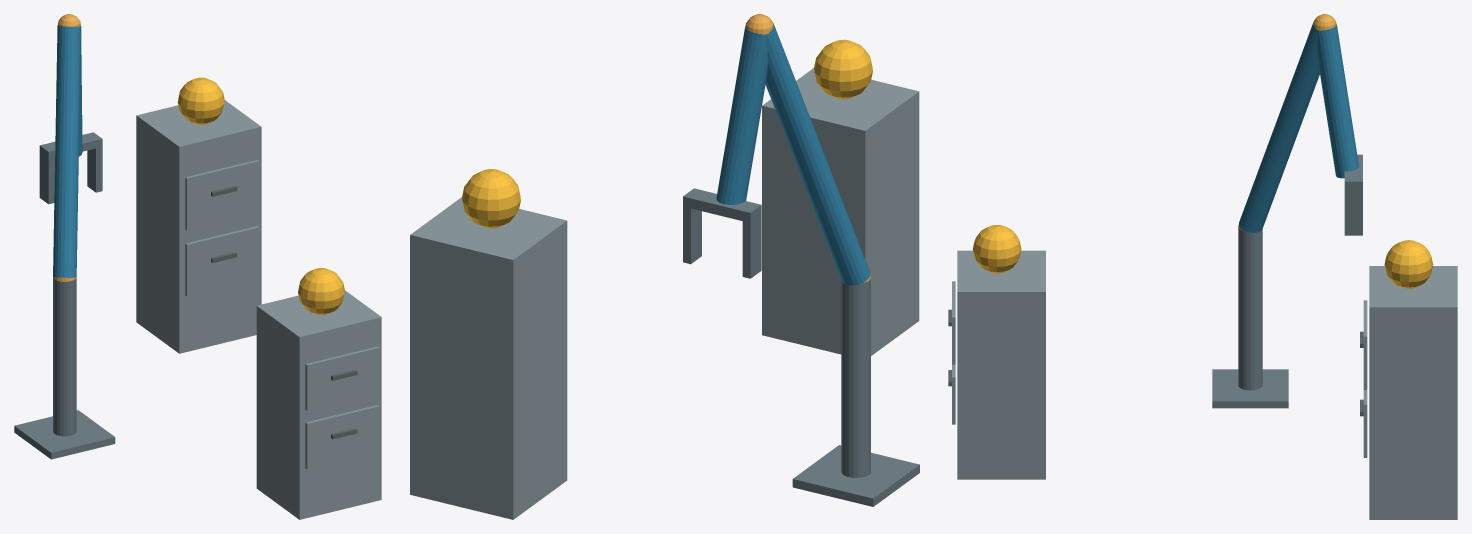
3 views of the same model, side by side, from view 1: azimuth 30°, elevation 25°; view 2: azimuth 150°, elevation 25°; view 3: azimuth 270°, elevation 25° (orthographic). The views are drawn at different scales.
Parts seen in each view (by area): view 1: cabinet_2 body, cabinet_1 body, moving link 1, cabinet_2 drawer front, cabinet_2 drawer front.001, fixed post, cabinet_1 drawer front.001, cabinet_1 drawer front, pedestal, ball ball_2, released ball_1, gripper finger -1 (+2 smaller); view 2: cabinet_2 body, cabinet_1 body, moving link 1, fixed post, moving link 2, pedestal, ball ball_2, released ball_1, gripper bridge, gripper finger -1, gripper finger 1; view 3: cabinet_2 body, cabinet_1 body, moving link 1, fixed post, moving link 2, pedestal, ball ball_2, released ball_1, gripper finger 1.
Boxes of the visible parts, <box> form: cabinet_2 body: <box>136,100,261,353</box>; cabinet_1 body: <box>256,290,381,519</box>; moving link 1: <box>53,25,81,277</box>; cabinet_2 drawer front: <box>185,226,259,296</box>; cabinet_2 drawer front.001: <box>185,160,259,230</box>; fixed post: <box>53,277,76,436</box>; cabinet_1 drawer front.001: <box>305,346,379,410</box>; cabinet_1 drawer front: <box>305,405,379,469</box>; pedestal: <box>14,410,115,459</box>; ball ball_2: <box>177,77,224,124</box>; released ball_1: <box>298,268,344,315</box>; gripper finger -1: <box>39,154,54,204</box>; cabinet_2 body: <box>410,197,567,519</box>; cabinet_1 body: <box>762,68,919,355</box>; moving link 1: <box>765,23,870,285</box>; fixed post: <box>841,279,870,477</box>; moving link 2: <box>716,26,767,204</box>; pedestal: <box>792,445,919,506</box>; ball ball_2: <box>462,169,520,228</box>; released ball_1: <box>814,39,872,99</box>; gripper bridge: <box>683,188,761,222</box>; gripper finger -1: <box>742,215,761,278</box>; gripper finger 1: <box>683,206,701,264</box>; cabinet_2 body: <box>1369,266,1457,519</box>; cabinet_1 body: <box>957,250,1045,479</box>; moving link 1: <box>1239,22,1319,232</box>; fixed post: <box>1238,227,1262,390</box>; moving link 2: <box>1317,24,1358,178</box>; pedestal: <box>1212,369,1288,408</box>; ball ball_2: <box>1384,240,1433,288</box>; released ball_1: <box>972,225,1021,273</box>; gripper finger 1: <box>1344,190,1362,235</box>.
Size of the model in its own units: 1.12 by 1.44 by 1.67.
